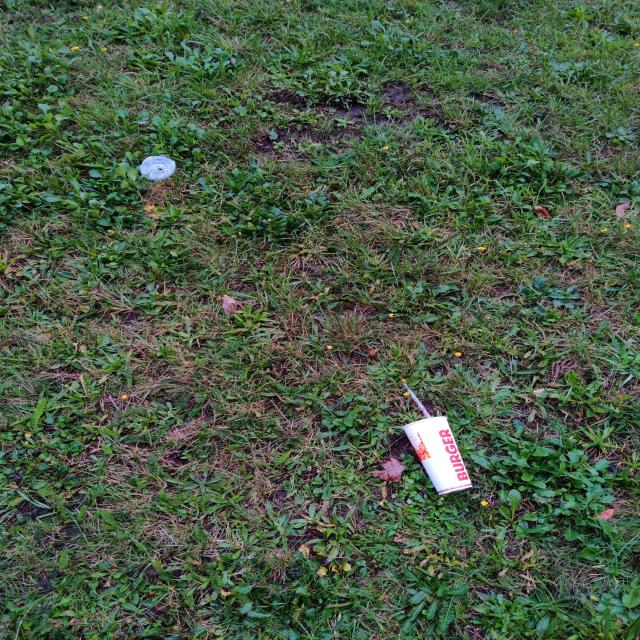litter: (363, 365, 522, 525)
